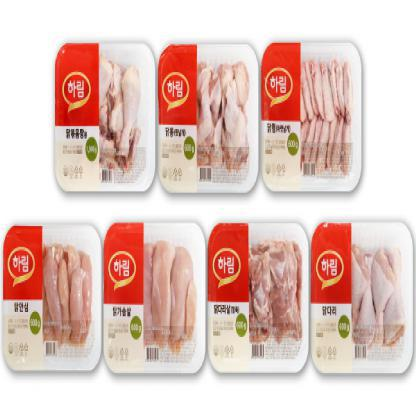chicken: (136, 237, 200, 361), (250, 228, 303, 364), (349, 240, 406, 360), (300, 63, 356, 180), (100, 50, 147, 186), (204, 62, 250, 176), (46, 242, 96, 346)
